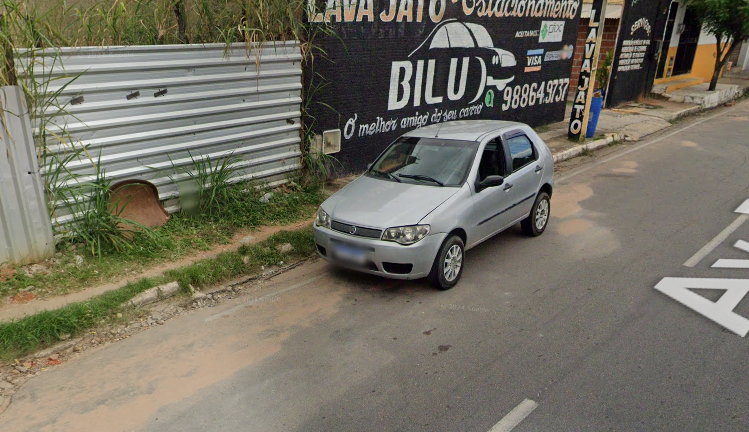car: (310, 113, 565, 297)
